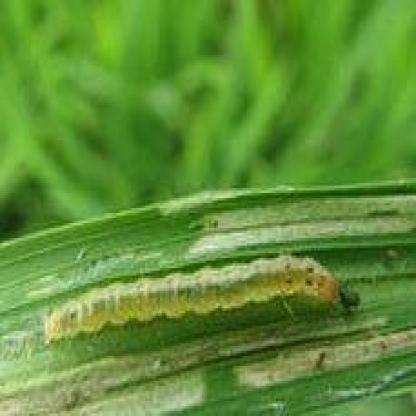leaf-folder: (46, 235, 360, 355)
